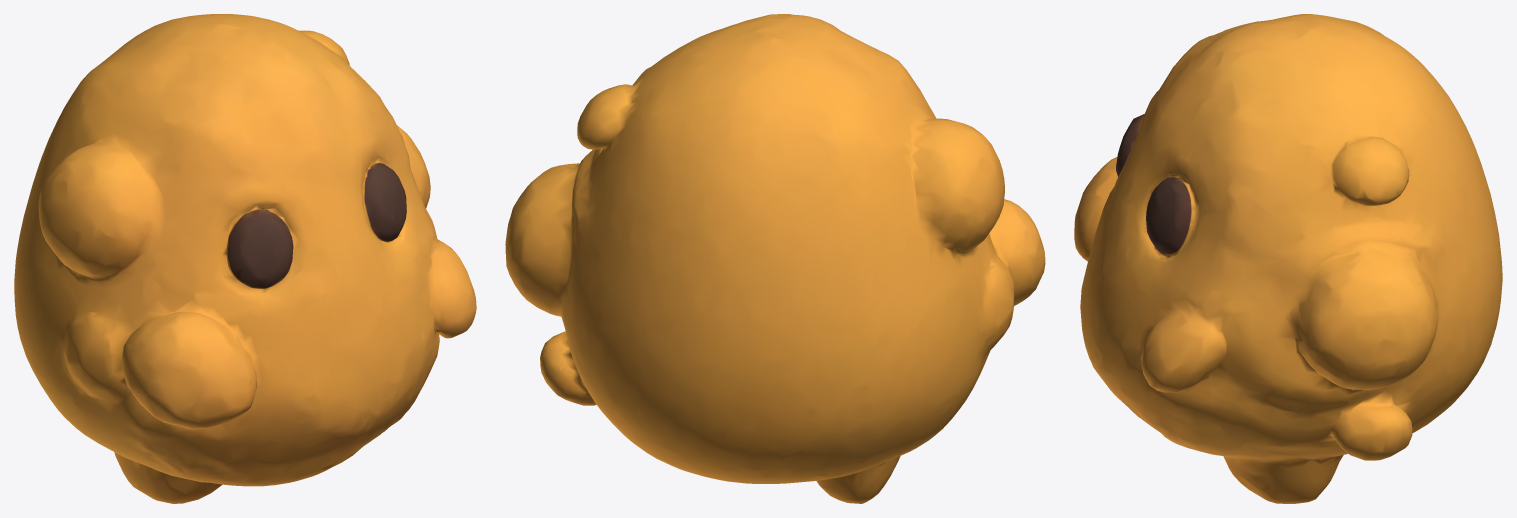
File: normal.glb
3 views of the same model, side by side, from view 1: azimuth 30°, elevation 25°; view 2: azimuth 150°, elevation 25°; view 3: azimuth 270°, elevation 25° (orthographic). The views are drawn at different scales.
Visible parts, largest first — view 1: tripo_node_7a49d868-b779-40c1-9f25-33069654a4eb; view 2: tripo_node_7a49d868-b779-40c1-9f25-33069654a4eb; view 3: tripo_node_7a49d868-b779-40c1-9f25-33069654a4eb.
Boxes of the visible parts, x1=… form: tripo_node_7a49d868-b779-40c1-9f25-33069654a4eb: x1=14, y1=14, x2=476, y2=503; tripo_node_7a49d868-b779-40c1-9f25-33069654a4eb: x1=505, y1=14, x2=1045, y2=503; tripo_node_7a49d868-b779-40c1-9f25-33069654a4eb: x1=1074, y1=14, x2=1502, y2=503.
Bounding box in the file's own units: 0.9847 × 1 × 0.8978.
Materials: 1 (1 with a texture image).
